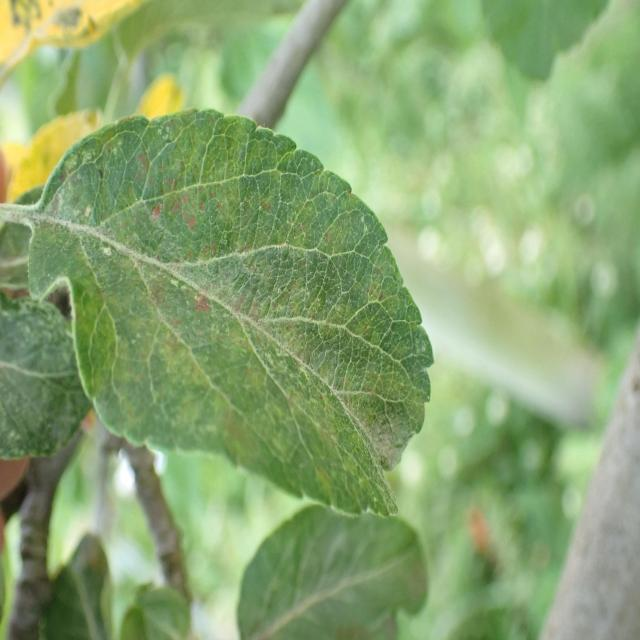scab: (50, 103, 421, 508)
